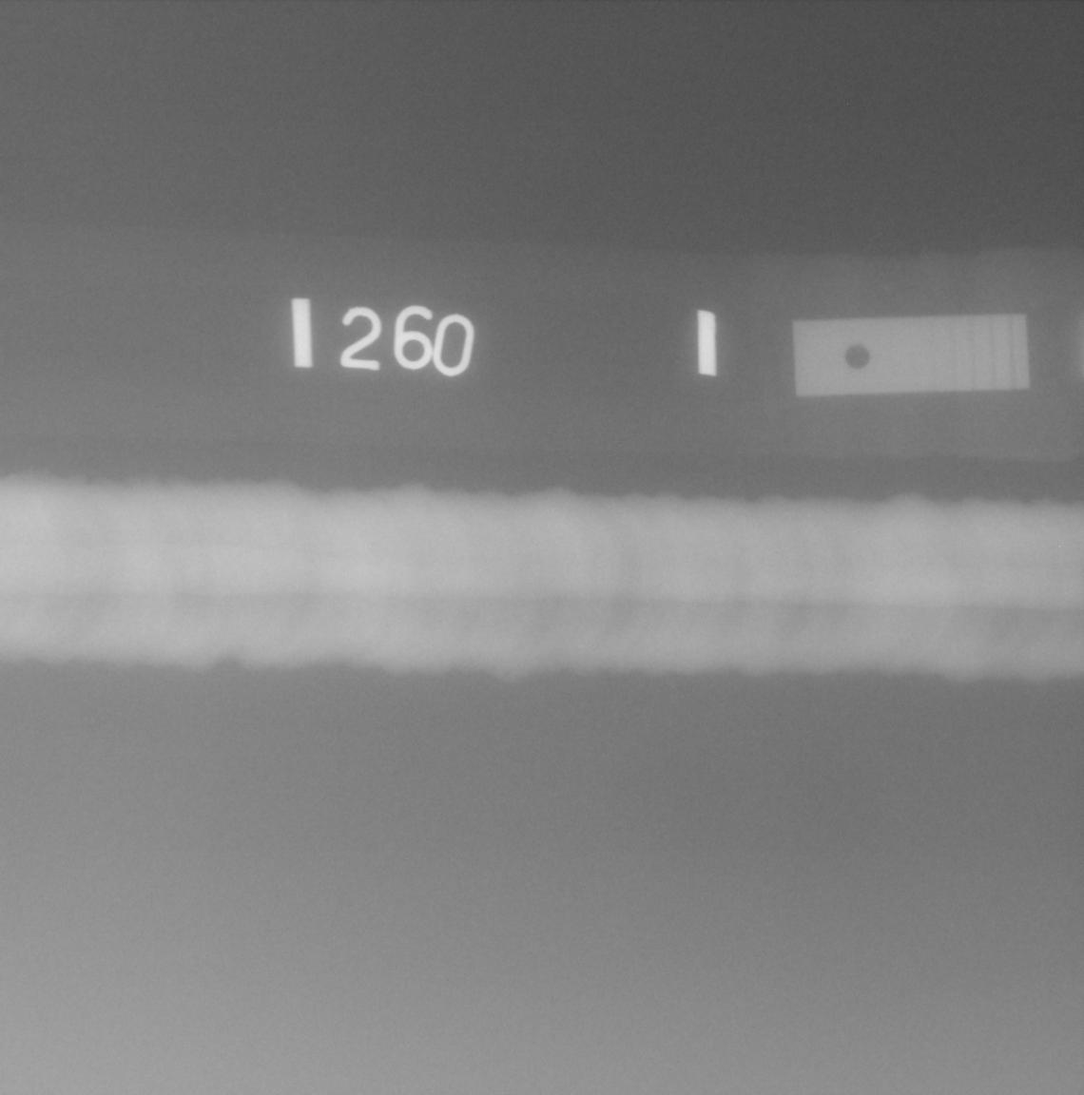Reference Standard 1: (793, 314, 1030, 396)
